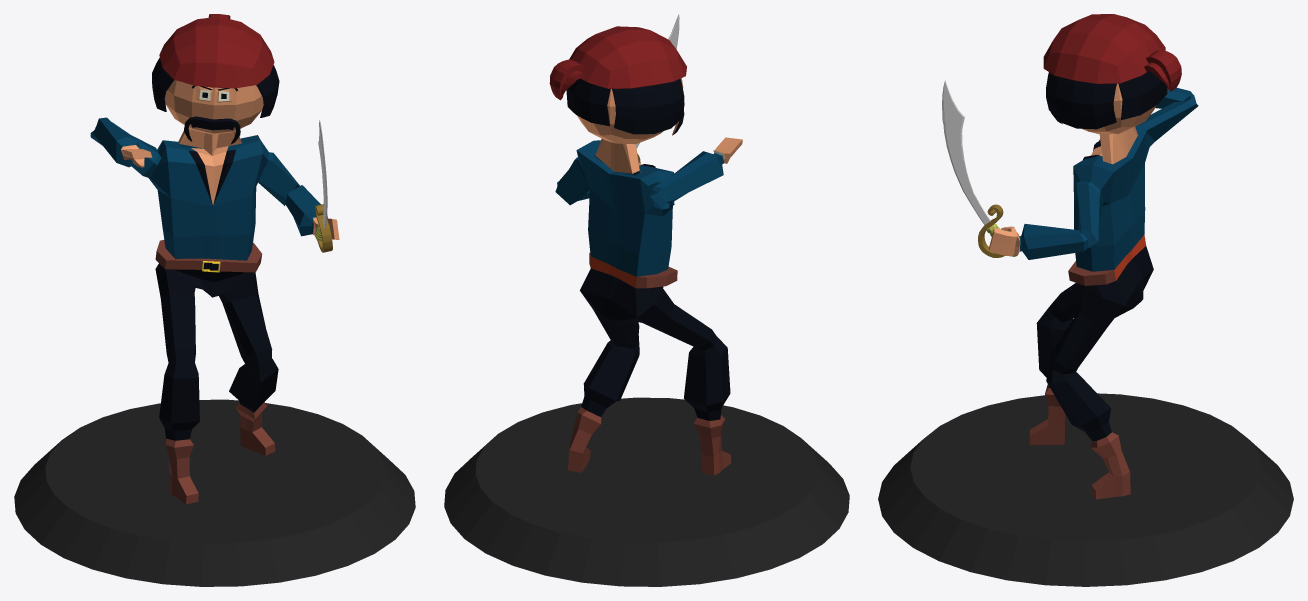
The model's file is Enemy 1.fbx.
The picture shows the model from 3 angles, left to right: view 1: azimuth 30°, elevation 25°; view 2: azimuth 150°, elevation 25°; view 3: azimuth 270°, elevation 25°; orthographic projection. The views are drawn at different scales.
Parts seen in each view (by area): view 1: Cilindro, Cubo, Schwert; view 2: Cilindro, Cubo; view 3: Cilindro, Cubo, Schwert.
Boxes of the visible parts, x1,y1,x2,y2 form: Cilindro: (14, 399, 415, 586); Cubo: (90, 14, 339, 504); Schwert: (314, 120, 332, 252); Cilindro: (444, 397, 849, 586); Cubo: (549, 26, 742, 475); Cilindro: (878, 393, 1293, 586); Cubo: (989, 14, 1198, 499); Schwert: (942, 80, 1017, 257).
Size of the model in its own units: 154 by 198 by 154.
